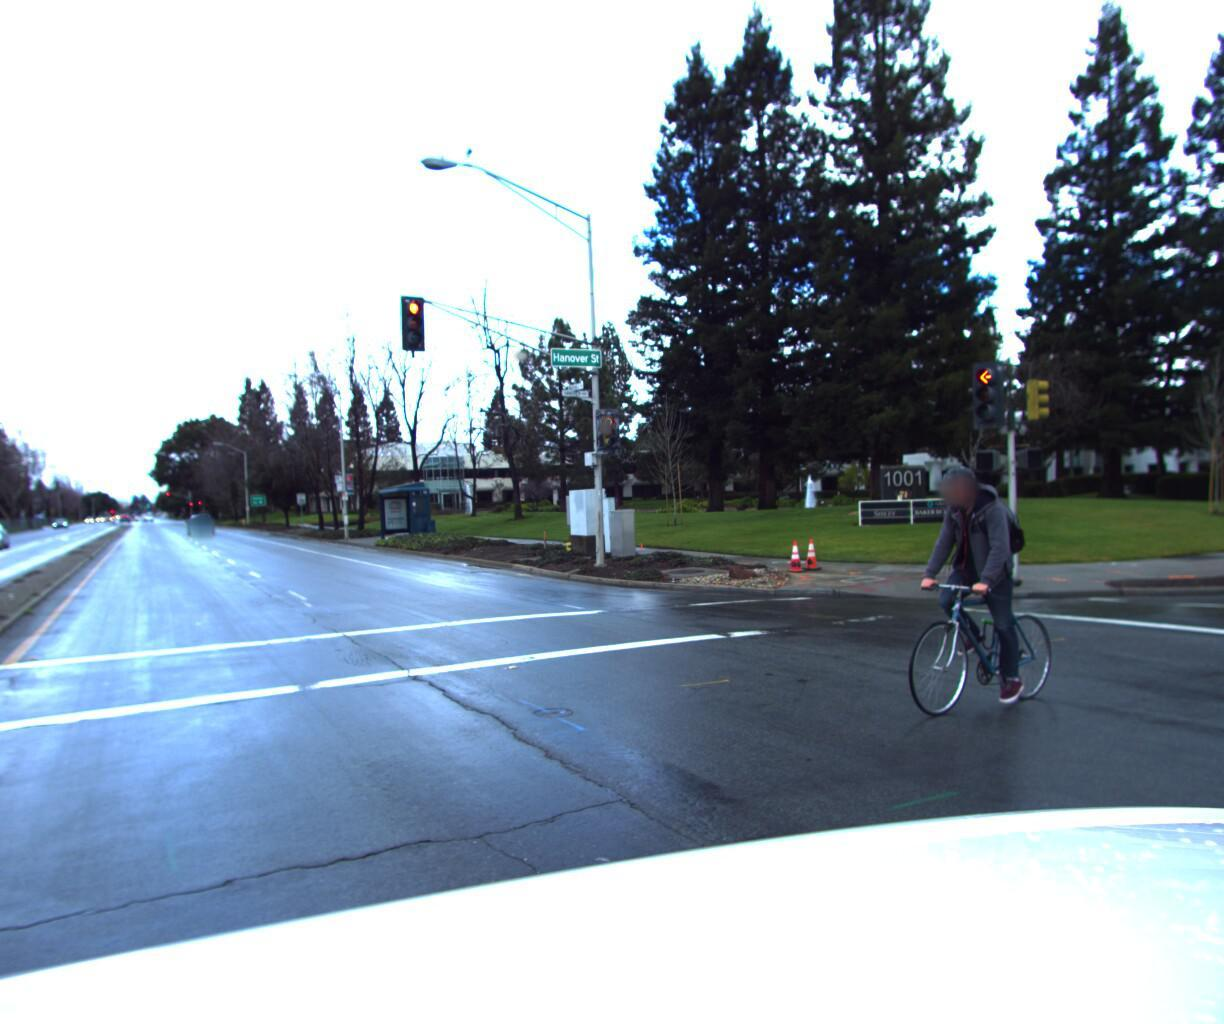bicycle: (850, 466, 1109, 746)
car: (183, 513, 213, 534)
